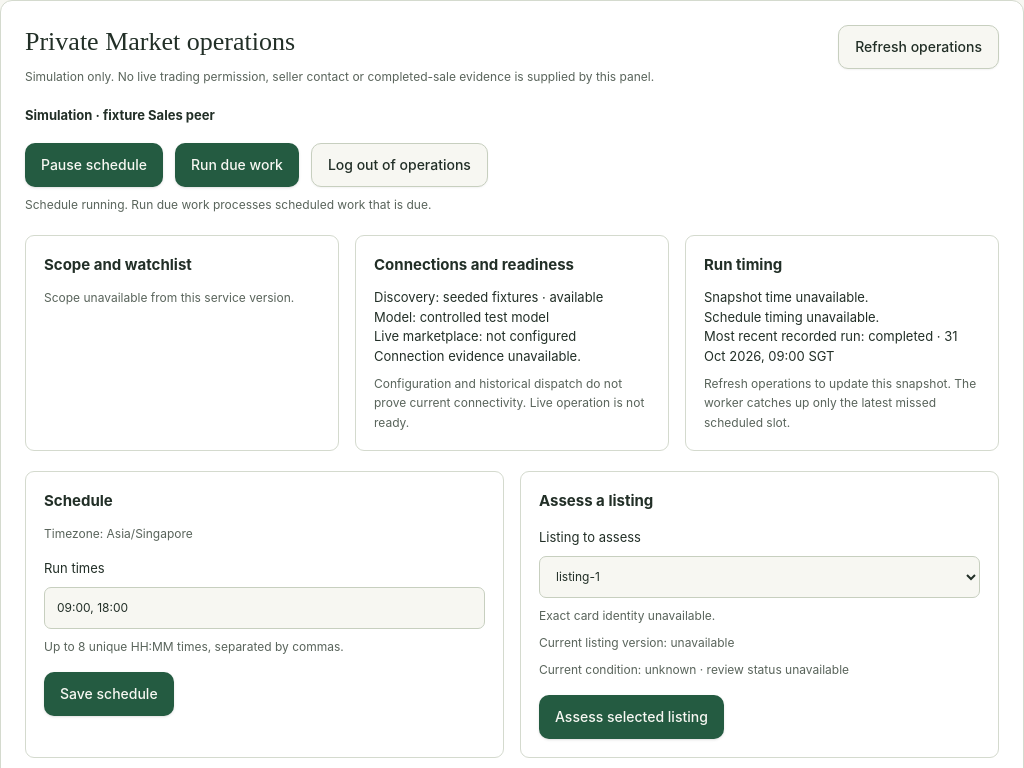
Test: ignores stale refresh responses even when transport ignores abort
Expected: the button "Pause schedule" is shown, [25,144,163,188]
What coordinates should you click on to do the following:
click the button "Refresh operations"
I would click on:
 (919, 47)
Its box is [838,25,999,69].
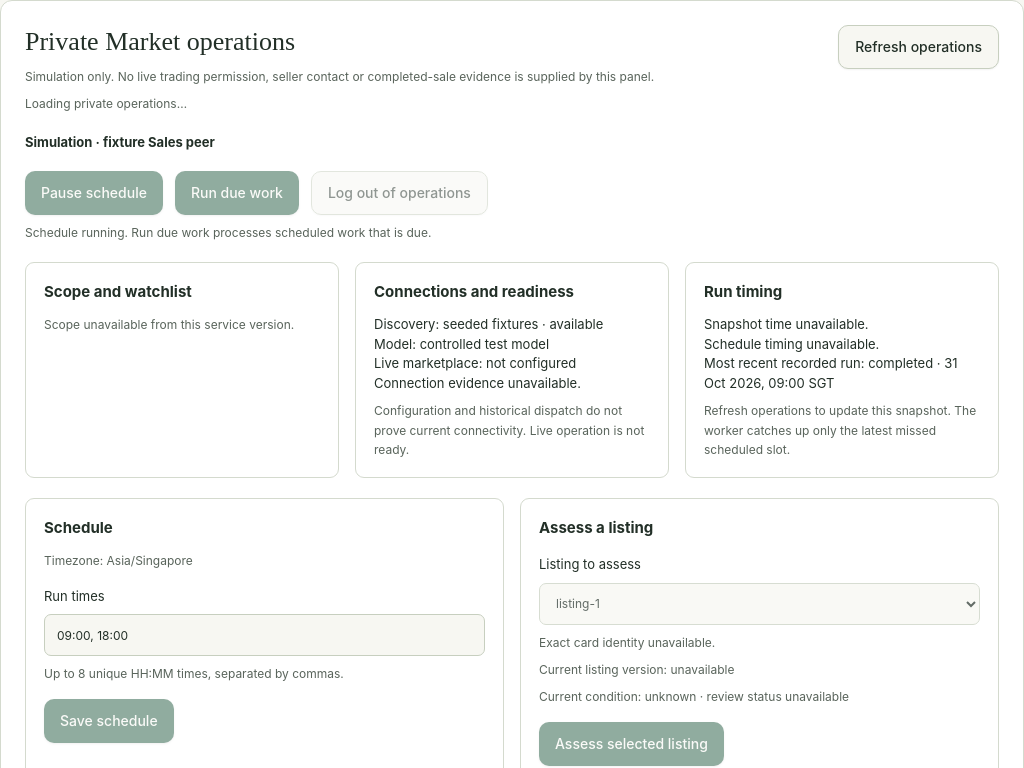
What coordinates should you click on to do the following:
click the button "Refresh operations"
I would click on:
 (919, 47)
Its box is [838,25,999,69].
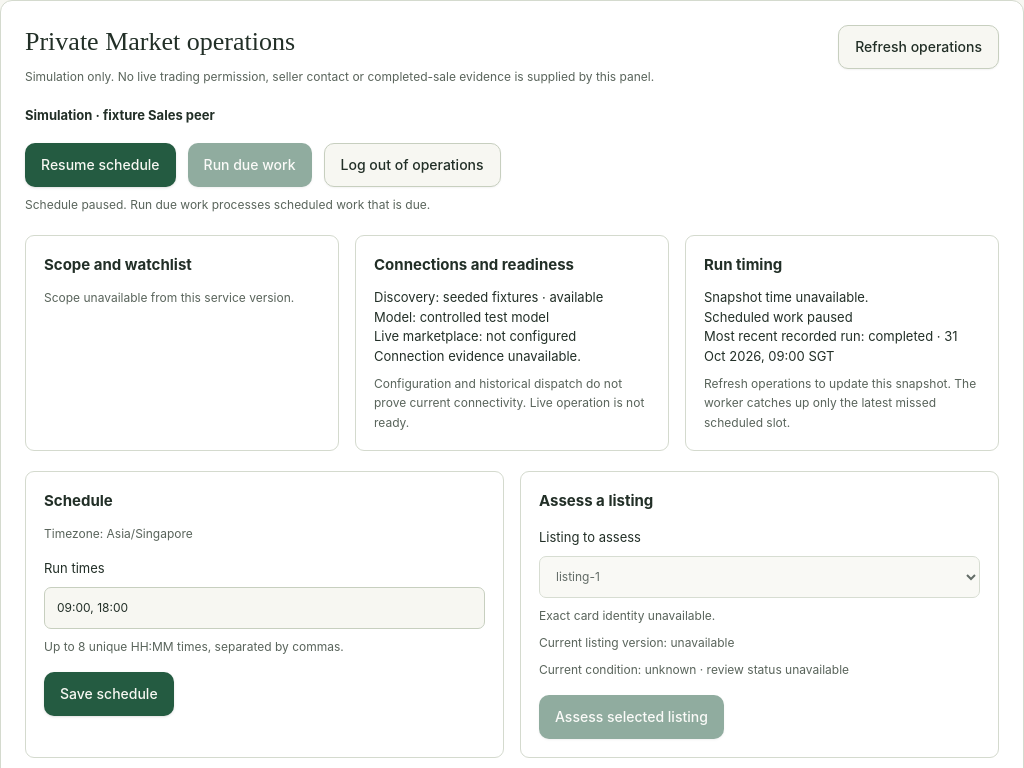
Expected: the button "Resume schedule" is shown, [25,144,176,188]
